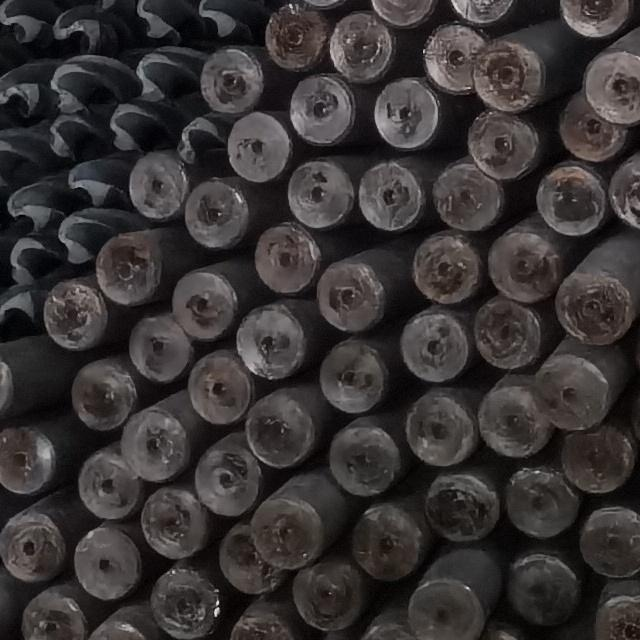tool: (532, 352, 609, 429), (561, 421, 638, 495), (556, 270, 632, 344), (238, 301, 308, 381), (249, 497, 324, 570), (490, 227, 564, 300), (536, 160, 606, 237), (346, 505, 421, 576), (470, 297, 540, 373), (120, 399, 187, 478), (327, 425, 402, 495), (505, 551, 577, 623), (92, 230, 168, 298), (151, 563, 218, 640), (317, 260, 388, 332), (425, 472, 498, 542), (247, 392, 316, 466), (321, 337, 390, 411), (504, 466, 576, 536), (475, 36, 544, 109), (327, 10, 395, 84), (422, 20, 488, 95), (357, 157, 423, 232), (467, 110, 539, 178), (292, 72, 359, 145), (140, 483, 207, 556), (73, 353, 139, 427), (482, 382, 549, 454), (406, 394, 472, 467), (434, 163, 505, 230), (254, 220, 321, 291), (375, 78, 439, 152), (187, 350, 250, 425), (401, 312, 468, 382), (74, 527, 140, 598), (287, 160, 353, 231), (2, 508, 67, 580), (42, 280, 107, 352), (227, 110, 292, 181), (556, 93, 627, 158), (294, 560, 362, 627), (128, 312, 191, 384), (195, 446, 261, 514), (172, 270, 238, 338), (410, 580, 484, 640), (415, 234, 482, 300), (199, 44, 264, 112), (0, 422, 56, 500), (261, 0, 324, 69), (76, 447, 138, 517), (222, 523, 282, 595), (581, 506, 640, 579), (187, 179, 250, 247), (128, 151, 184, 222), (586, 53, 640, 126), (23, 584, 88, 640), (561, 0, 640, 37), (90, 601, 162, 640), (608, 150, 640, 236), (0, 557, 25, 640), (596, 594, 640, 638), (368, 0, 437, 28), (448, 0, 516, 24), (233, 615, 296, 640), (364, 620, 418, 640)
tool_b: (54, 54, 140, 109), (136, 46, 208, 106), (51, 1, 132, 53), (0, 57, 57, 118), (0, 226, 61, 283), (45, 109, 109, 163), (68, 157, 132, 211), (102, 103, 170, 152), (0, 124, 46, 189), (56, 211, 112, 263), (128, 0, 198, 41), (0, 0, 54, 53), (2, 182, 60, 230), (178, 114, 228, 164), (194, 0, 247, 38), (0, 282, 35, 337)
